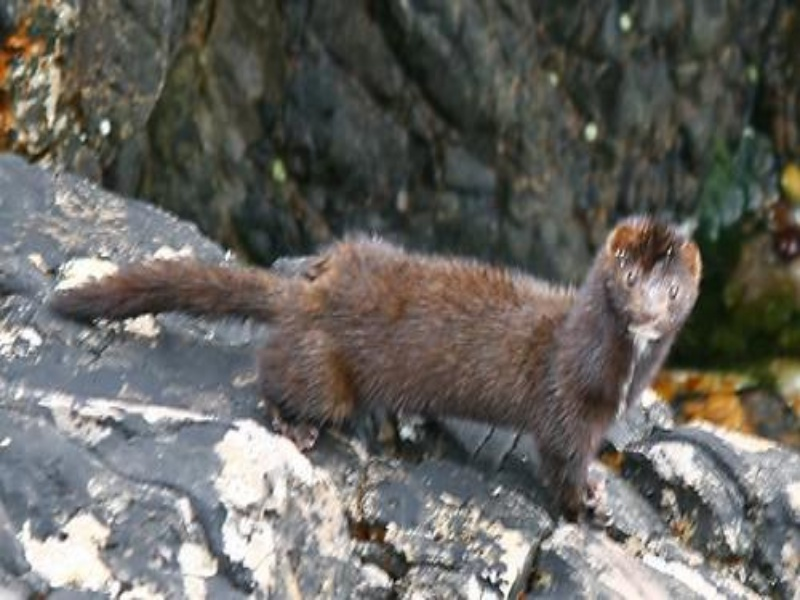minkish: (48, 218, 710, 527)
